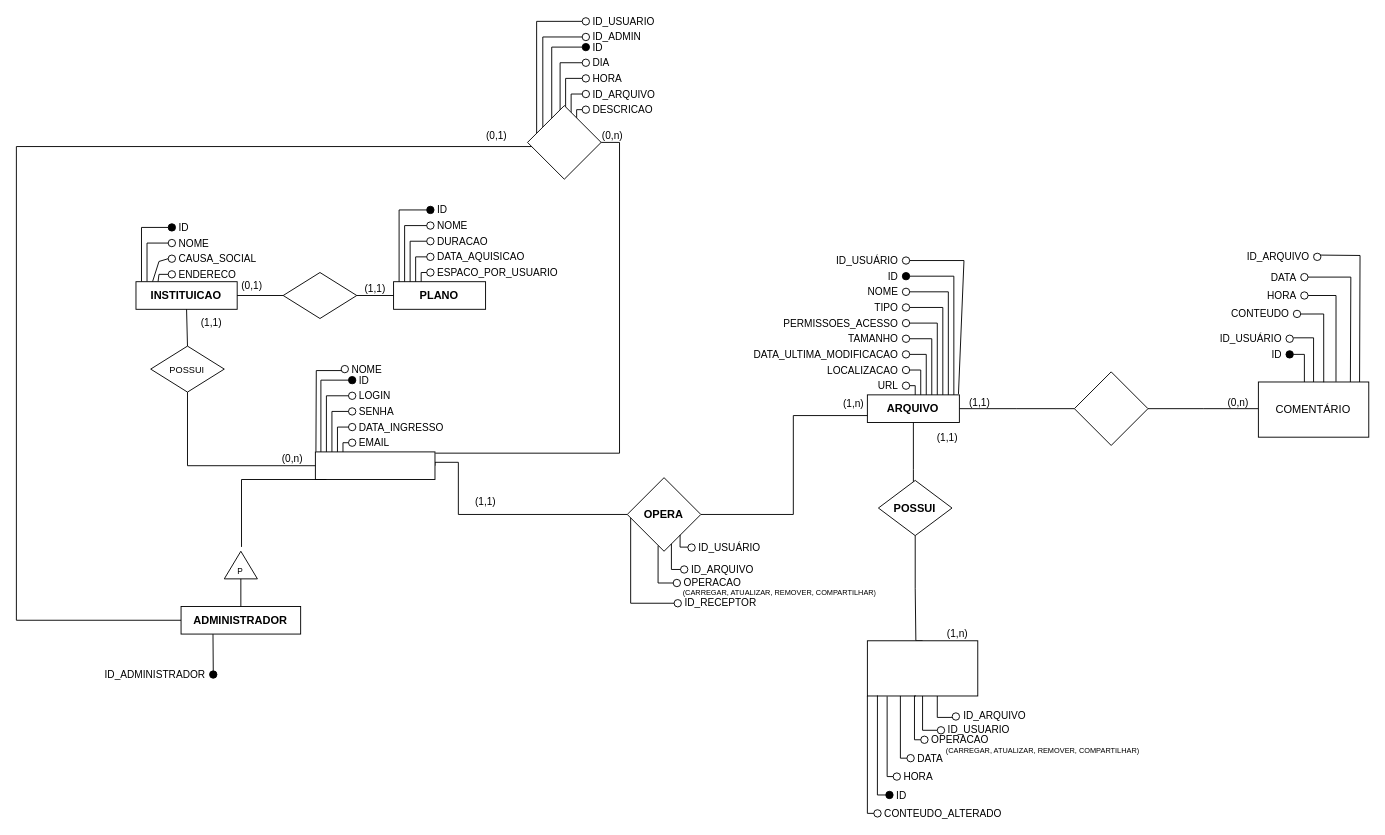
The diagram is 1385 pixels wide and 835 high, and some of its shapes have lost their labels. The centre of each missing label's shape, as x and y in pixels:
ADERE: [319,295]
HISTORICO: [922,668]
RECEBE: [1110,408]
SUPORTE: [564,142]
USUARIO: [374,465]
